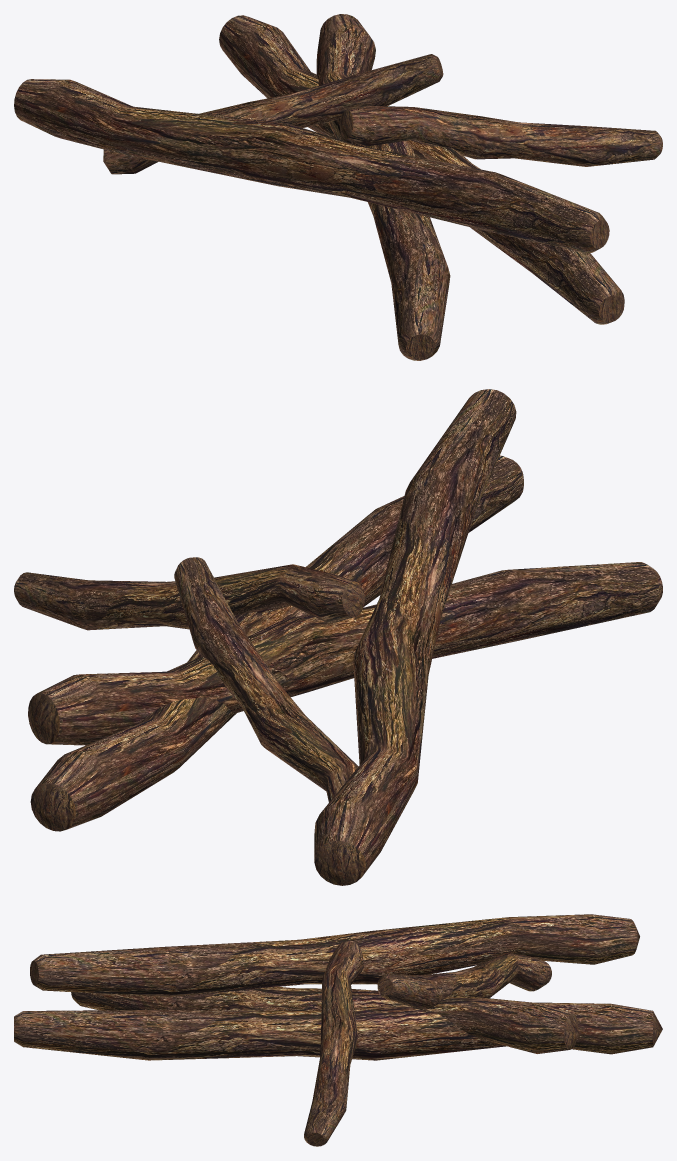
Rendered from FIRE.fbx.
The picture shows the model from 3 angles, top to bottom: view 1: azimuth 30°, elevation 25°; view 2: azimuth 150°, elevation 25°; view 3: azimuth 270°, elevation 25°; orthographic projection. The views are drawn at different scales.
Visible parts, largest first — view 1: pCylinder4, pCylinder5, pCylinder3, Torch1:pCylinder3, pCylinder6; view 2: pCylinder4, pCylinder3, Torch1:pCylinder3, pCylinder5, pCylinder6; view 3: pCylinder4, Torch1:pCylinder3, pCylinder3, pCylinder5, pCylinder6.
Part boxes in pixels (x1,y1,x2,y2): pCylinder4: (14,79,609,253); pCylinder5: (340,106,662,166); pCylinder3: (316,14,450,360); Torch1:pCylinder3: (219,15,624,324); pCylinder6: (103,54,443,174); pCylinder4: (314,389,516,885); pCylinder3: (28,562,662,745); Torch1:pCylinder3: (30,455,523,831); pCylinder5: (14,564,364,630); pCylinder6: (174,557,358,802); pCylinder4: (30,914,639,997); Torch1:pCylinder3: (14,1002,662,1060); pCylinder3: (71,986,578,1053); pCylinder5: (304,941,364,1146); pCylinder6: (377,953,551,1009).
Bounding box in the file's own units: 0.5379 × 0.1426 × 0.7589.
Materials: 1 (1 with a texture image).
